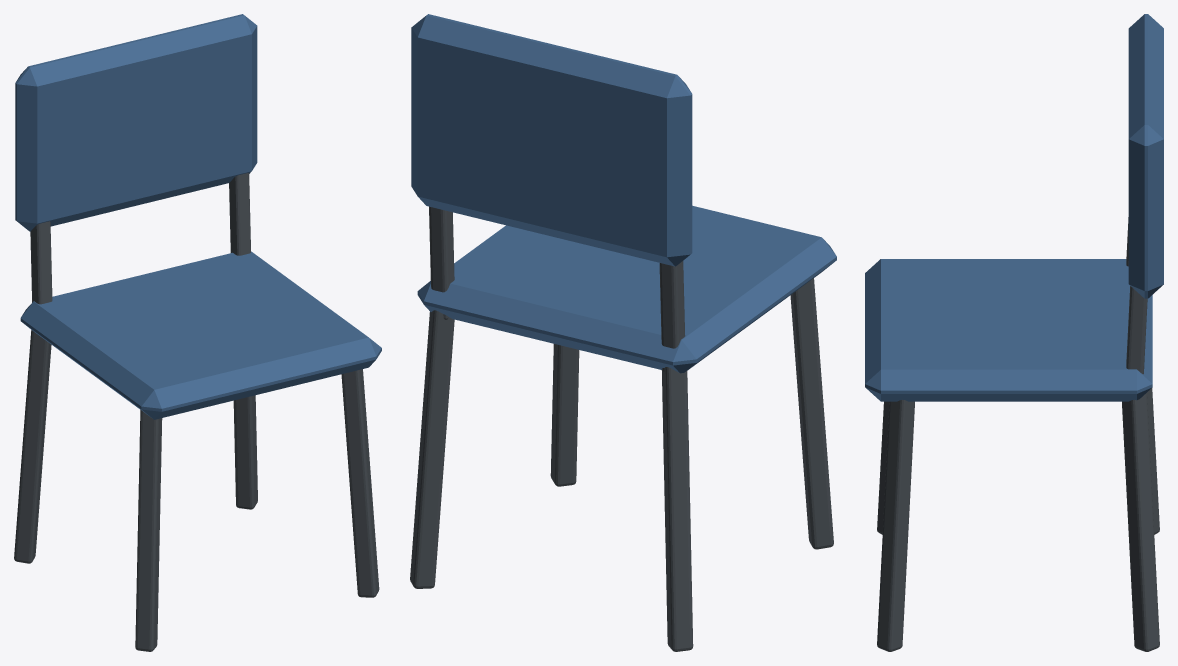
The model's file is student-chair.glb.
3 views of the same model, side by side, from view 1: azimuth 30°, elevation 25°; view 2: azimuth 150°, elevation 25°; view 3: azimuth 270°, elevation 25° (orthographic). The views are drawn at different scales.
Visible parts, largest first — view 1: student_chair; view 2: student_chair; view 3: student_chair.
Boxes of the visible parts, x1,y1,x2,y2 form: student_chair: (14,14,381,651); student_chair: (410,14,836,651); student_chair: (865,14,1163,651).
Size of the model in its own units: 0.4649 by 0.9007 by 0.4675.
